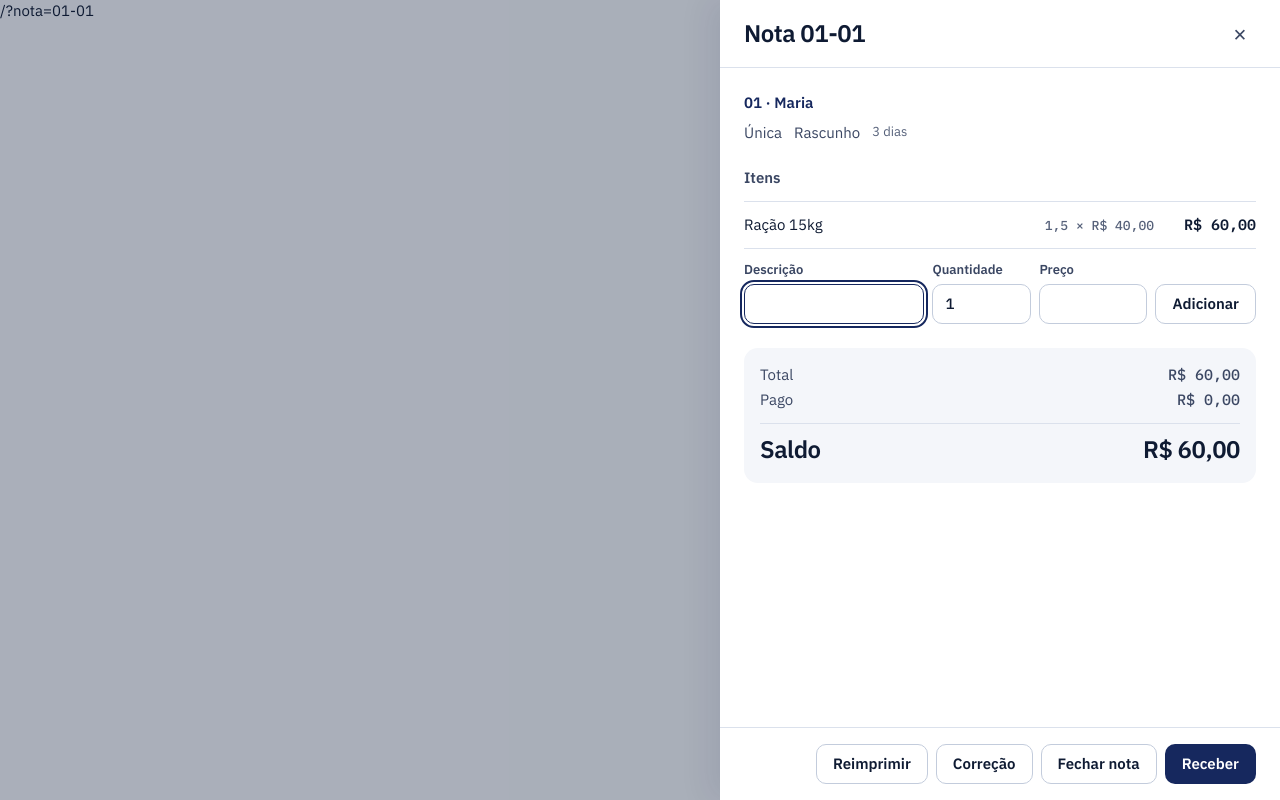
Test: GavetaDaNota › em Receber, a linha de novo item some até o formulário fechar
Step 1. Click the button "Receber" → (1210, 764), box [1165,744,1256,784]
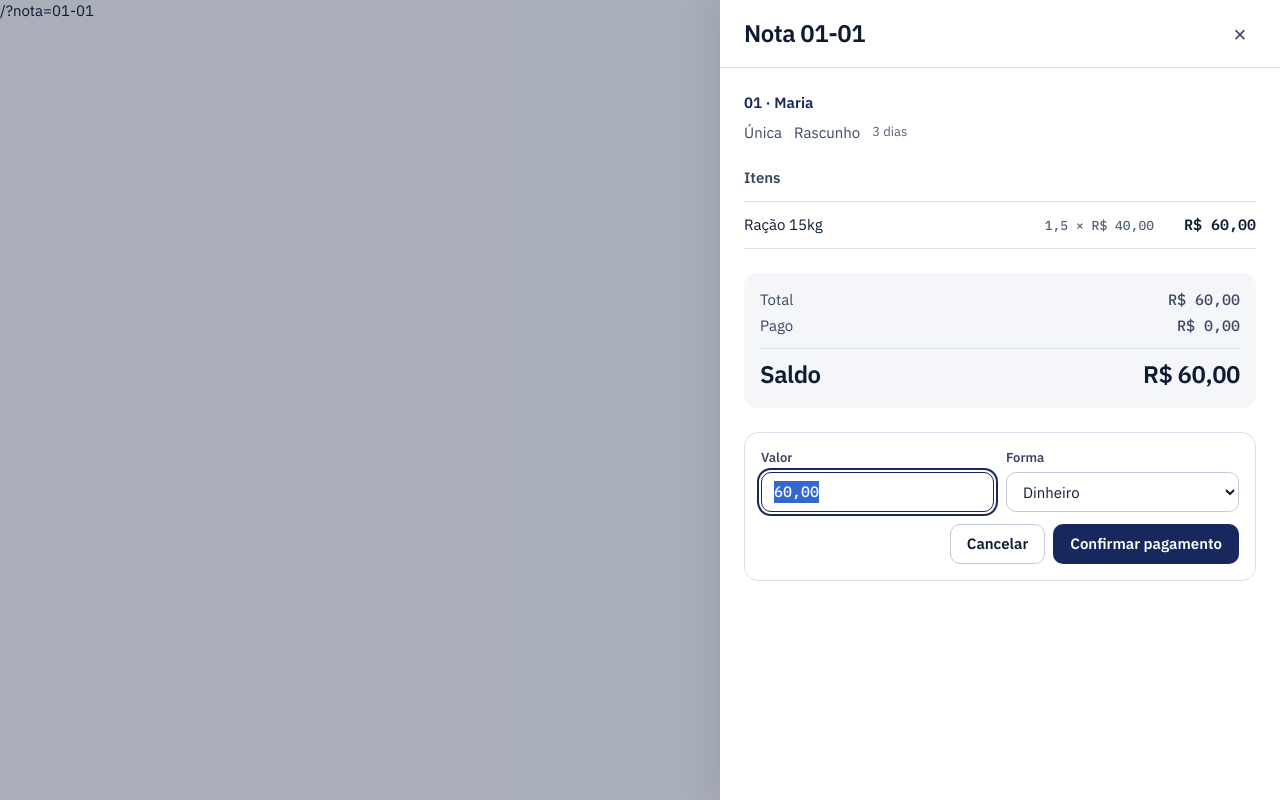
Expected: the form named "Receber pagamento" is shown, [744,432,1256,581]
Expected: the label labelled "Descrição" is gone
Step 2. Click the button "Cancelar" → (998, 544), box [950,524,1045,564]
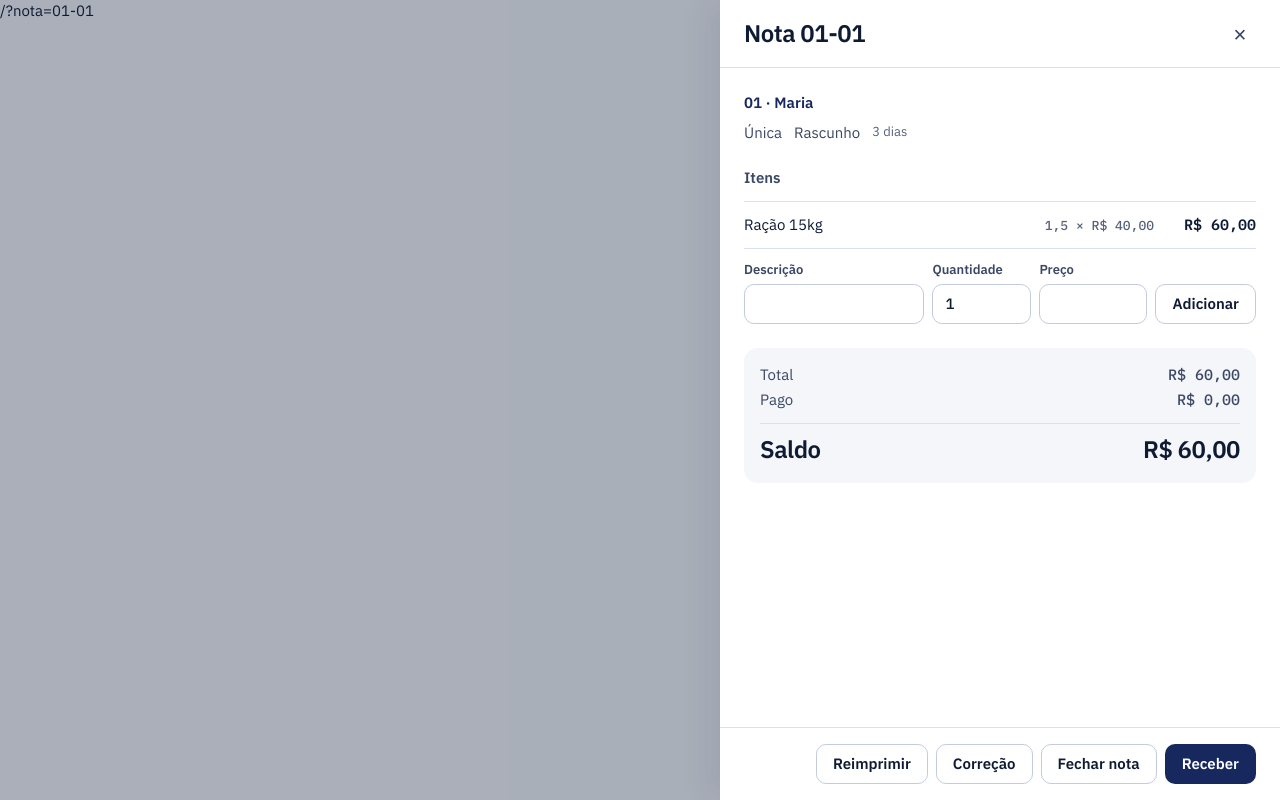
Expected: the dropdown labelled "Descrição" is shown, [744,284,924,324]
